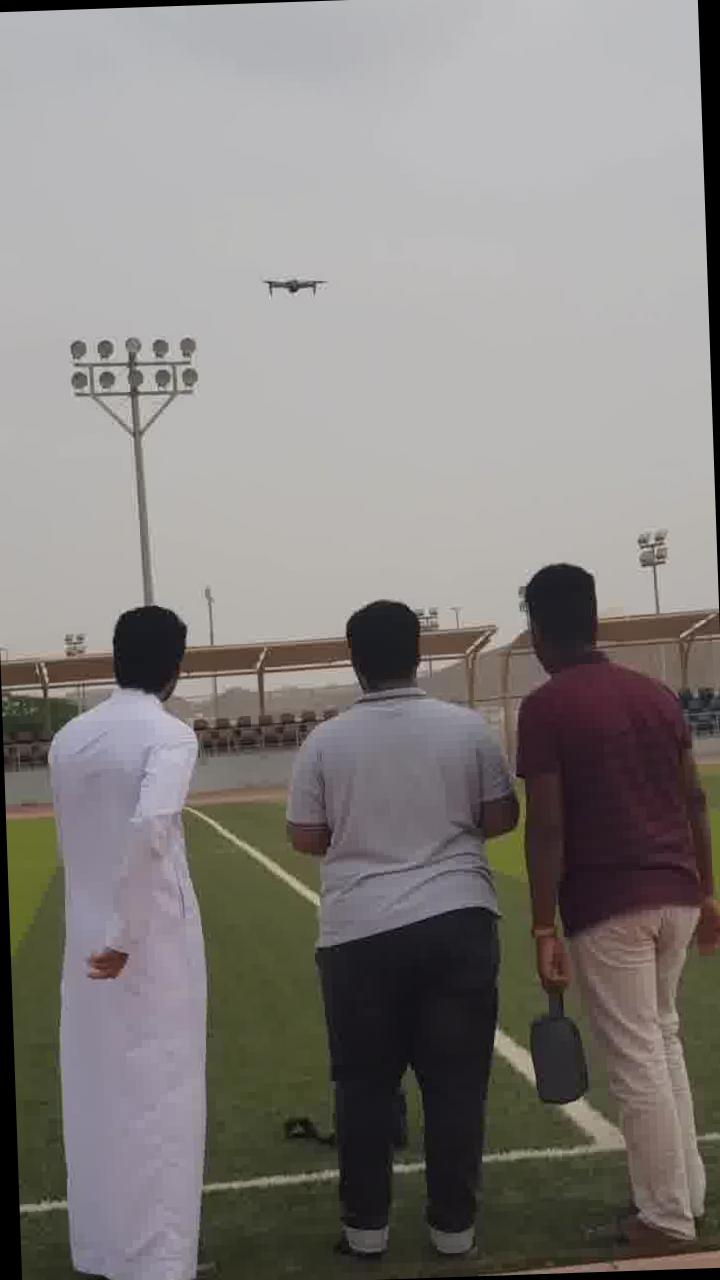drone: (248, 264, 336, 304)
